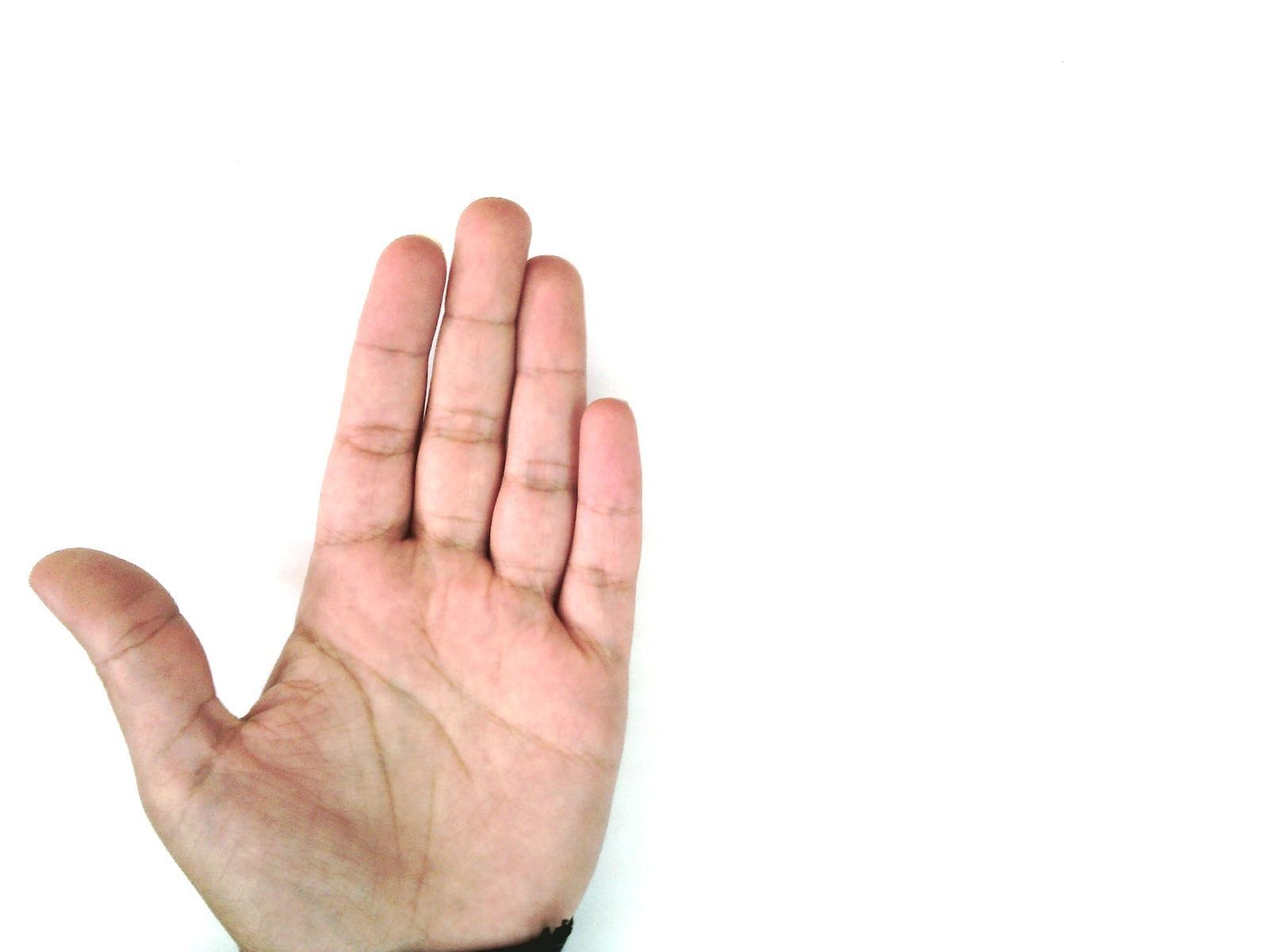open_palm: (29, 195, 647, 951)
